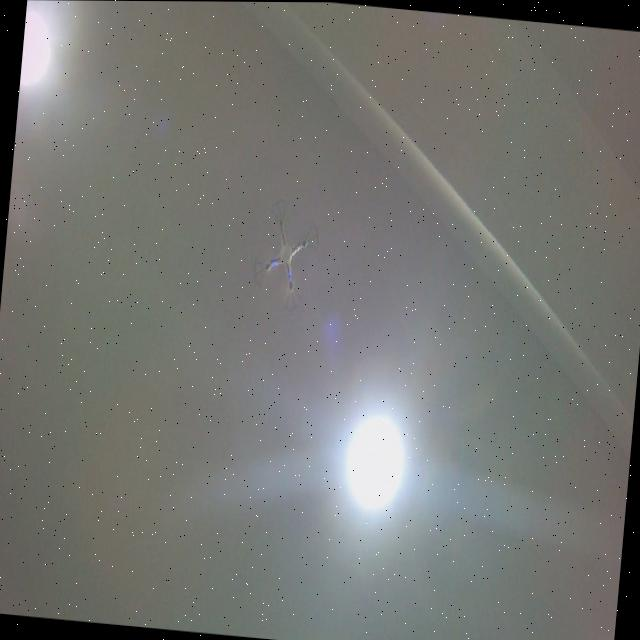drone: (248, 194, 326, 316)
